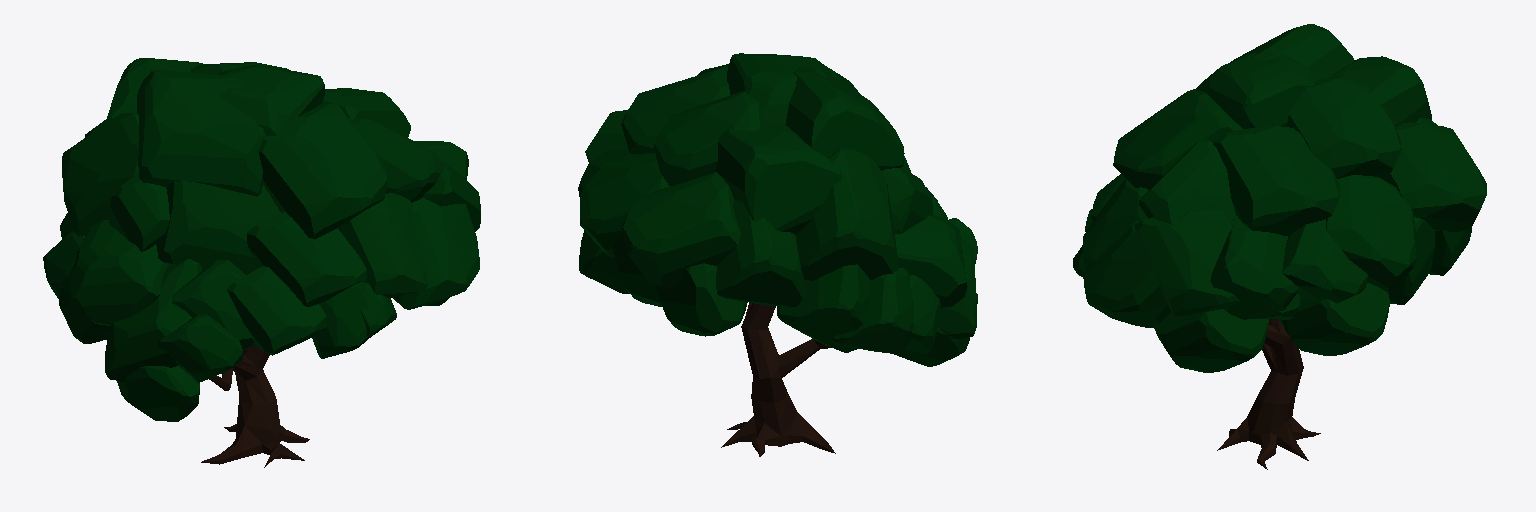
The model's file is Tree.obj.
3 views of the same model, side by side, from view 1: azimuth 30°, elevation 25°; view 2: azimuth 150°, elevation 25°; view 3: azimuth 270°, elevation 25° (orthographic).
Parts seen in each view (by area): view 1: Leaves2, Leaves31, Leaves5, Leaves34, Leaves11, Leaves1, Leaves25, Leaves7, Bark1, Leaves22, Leaves12, Leaves30 (+13 smaller); view 2: Leaves33, Leaves13, Leaves1, Leaves2, Bark1, Leaves21, Leaves4, Leaves10, Leaves6, Leaves34, Leaves17, Leaves14 (+10 smaller); view 3: Leaves17, Leaves4, Leaves33, Leaves10, Leaves15, Leaves31, Leaves30, Leaves27, Bark1, Leaves7, Leaves29, Leaves19 (+8 smaller).
Part boxes in pixels (x1,y1,x2,y2): Leaves2: (137,70,265,196); Leaves31: (258,103,387,239); Leaves5: (156,180,280,274); Leaves34: (70,220,169,325); Leaves11: (247,212,366,306); Leaves1: (62,113,138,236); Leaves25: (338,193,427,297); Leaves7: (393,198,479,309); Bark1: (201,345,309,467); Leaves22: (105,259,201,381); Leaves12: (227,266,326,355); Leaves30: (219,65,324,136); Leaves33: (621,172,740,287); Leaves13: (715,122,841,234); Leaves1: (796,148,897,281); Leaves2: (785,67,904,170); Bark1: (721,303,835,456); Leaves21: (716,200,804,306); Leaves4: (654,91,765,185); Leaves10: (580,152,669,257); Leaves6: (777,264,870,352); Leaves34: (895,215,967,308); Leaves17: (621,67,729,153); Leaves14: (656,263,747,336); Leaves17: (1212,126,1339,236); Leaves4: (1286,79,1401,180); Leaves33: (1386,122,1486,232); Leaves10: (1326,175,1416,292); Leaves15: (1134,206,1239,316); Leaves31: (1113,89,1243,189); Leaves30: (1197,52,1320,128); Leaves27: (1210,216,1297,319); Bark1: (1217,319,1320,469); Leaves7: (1083,221,1170,327); Leaves29: (1154,309,1268,372); Leaves19: (1279,283,1389,355).
Bounding box in the file's own units: 36.63 × 35.24 × 34.63.